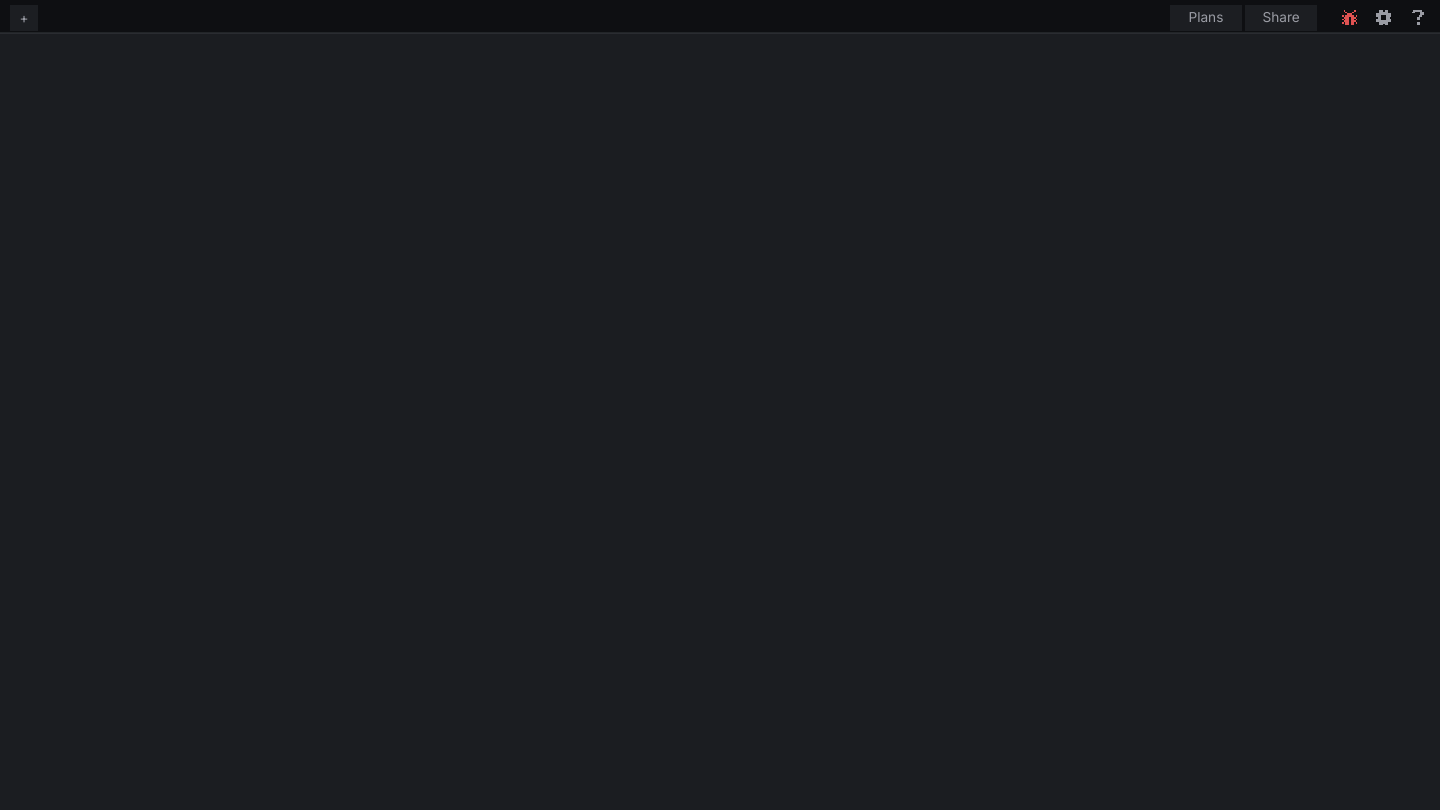
Test: the mod's top bar › the Help key opens the tour, the controls list and the website's own links
Click the button named "Help" at (1418, 18), box x1=1410 y1=10 x2=1426 y2=26
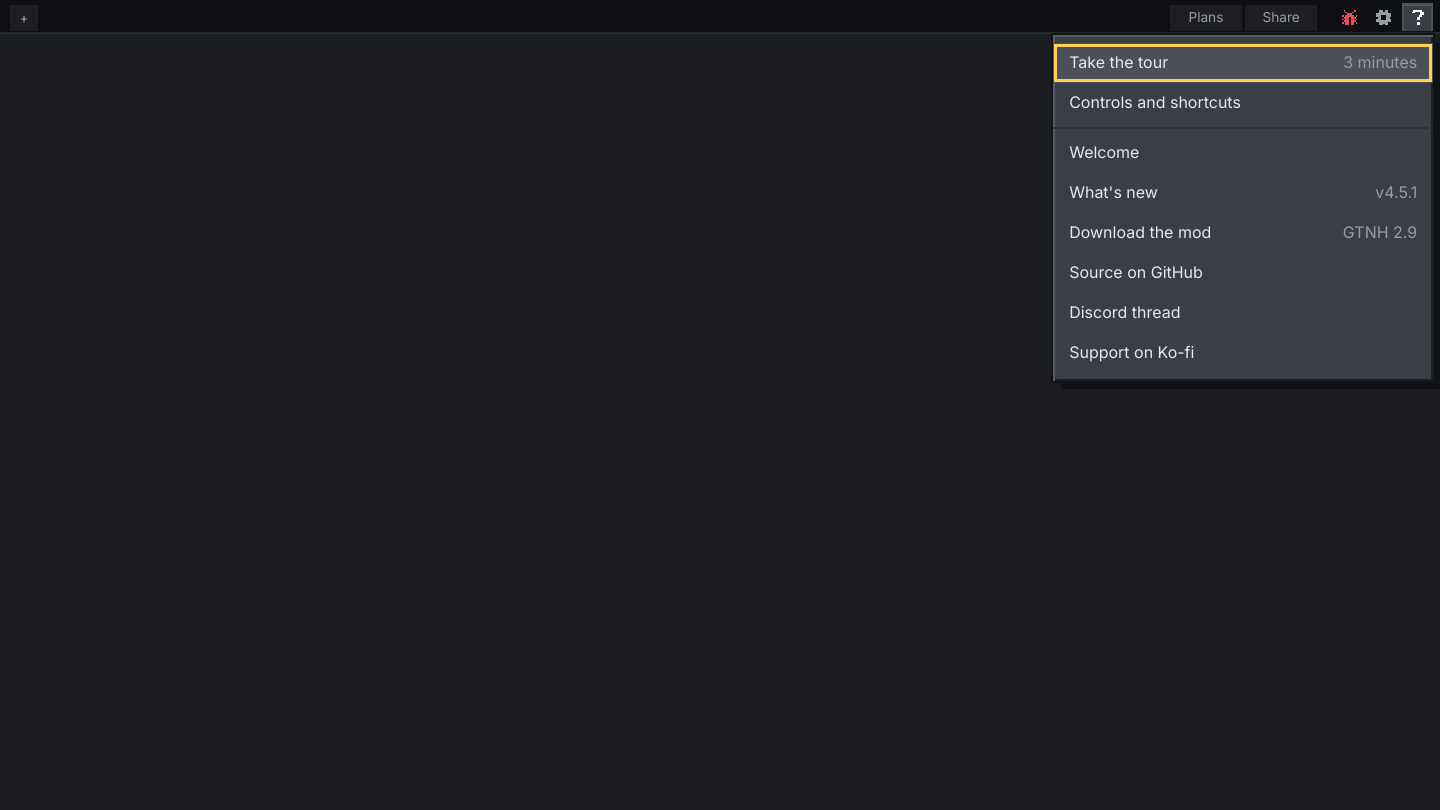
Click the menu item "Controls and shortcuts" at (1155, 102), box x1=1069 y1=93 x2=1241 y2=112
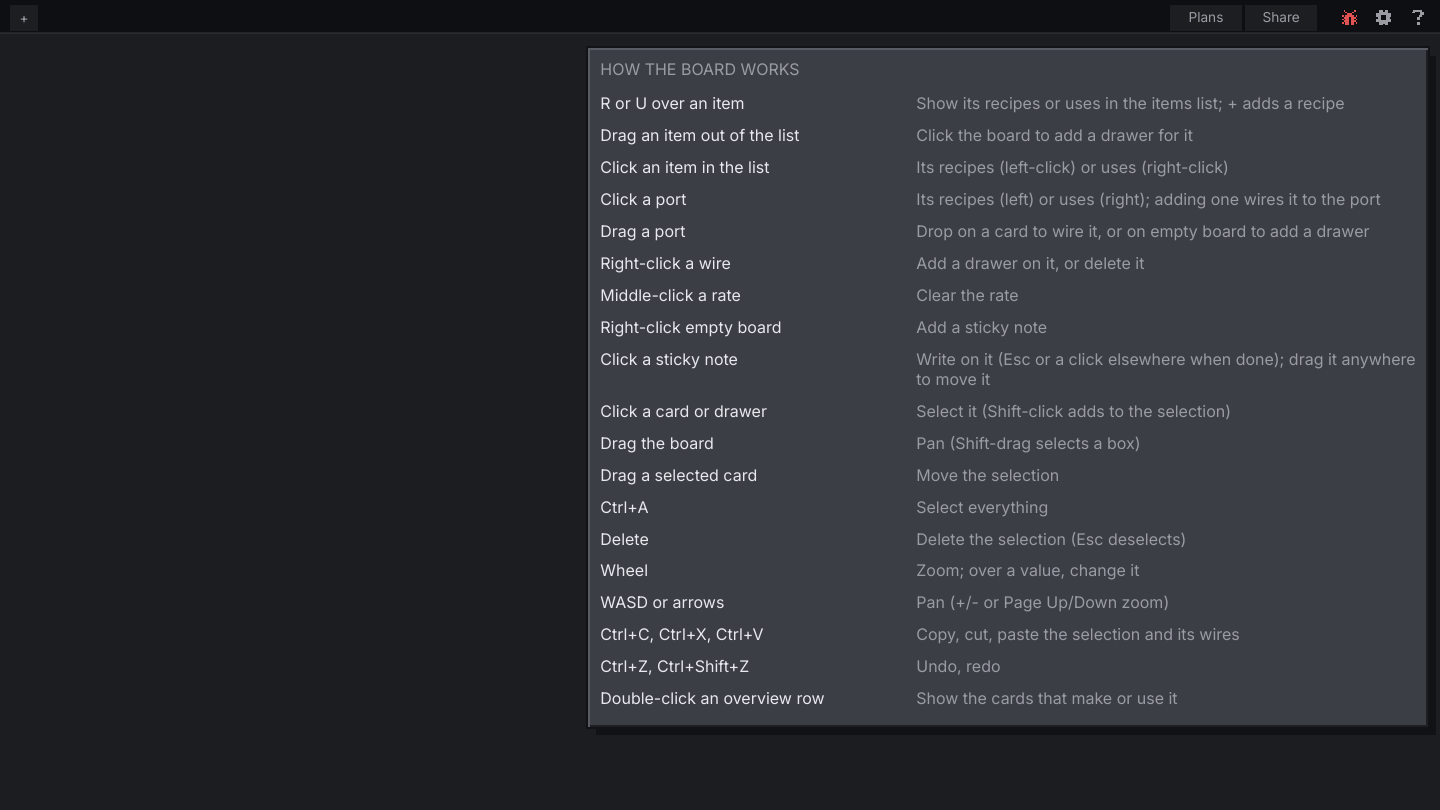
Expected: the dialog "HOW THE BOARD WORKS" is shown, x1=588 y1=48 x2=1428 y2=727
Expected: the number of elements with class "mc-controls-row" is 19
